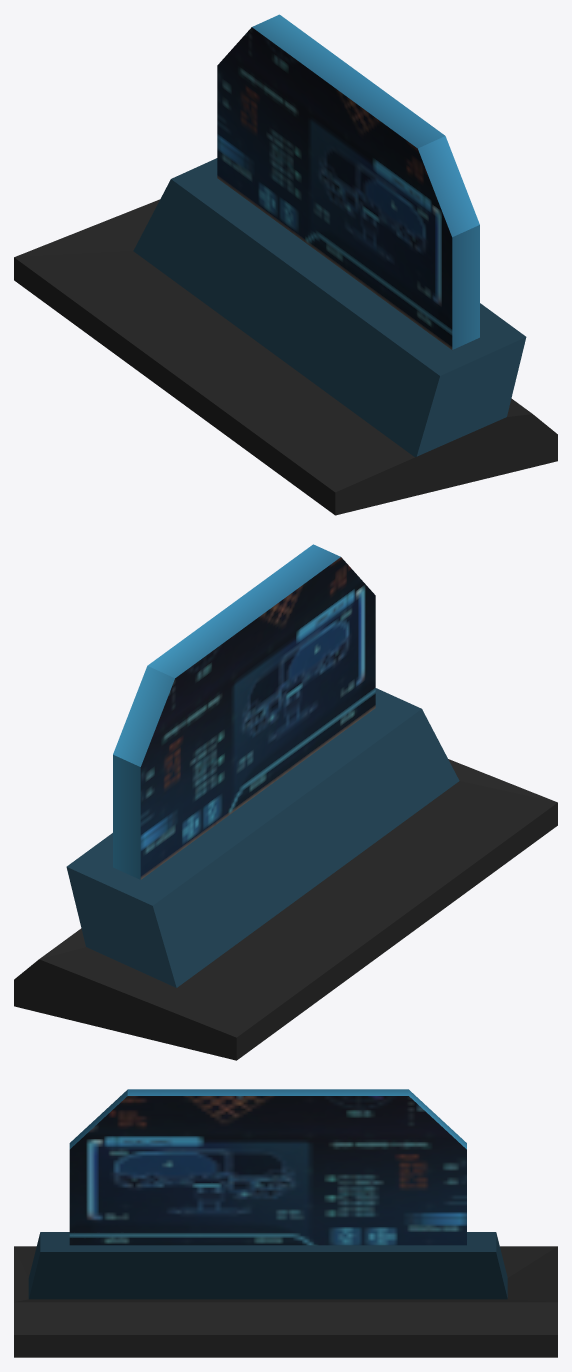
Rendered from SciFiProp1.fbx.
3 renders of one model, top to bottom at view 1: azimuth 30°, elevation 25°; view 2: azimuth 150°, elevation 25°; view 3: azimuth 270°, elevation 25°, orthographic. The views are drawn at different scales.
Visible parts, largest first — view 1: SciFiProp1; view 2: SciFiProp1; view 3: SciFiProp1.
Boxes of the visible parts, x1,y1,x2,y2 form: SciFiProp1: (14, 14, 557, 515); SciFiProp1: (14, 544, 557, 1060); SciFiProp1: (14, 1089, 557, 1357).
Size of the model in its own units: 30.16 by 37.16 by 75.38.
